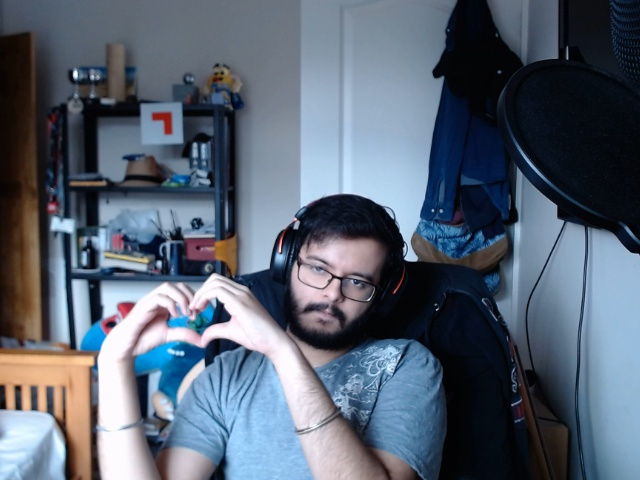Heart: (103, 268, 282, 356)
